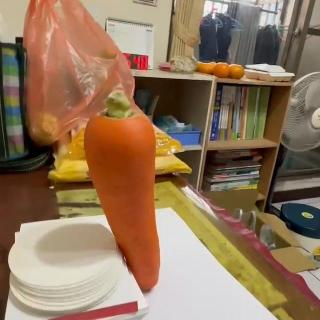carrot: (83, 89, 162, 293)
